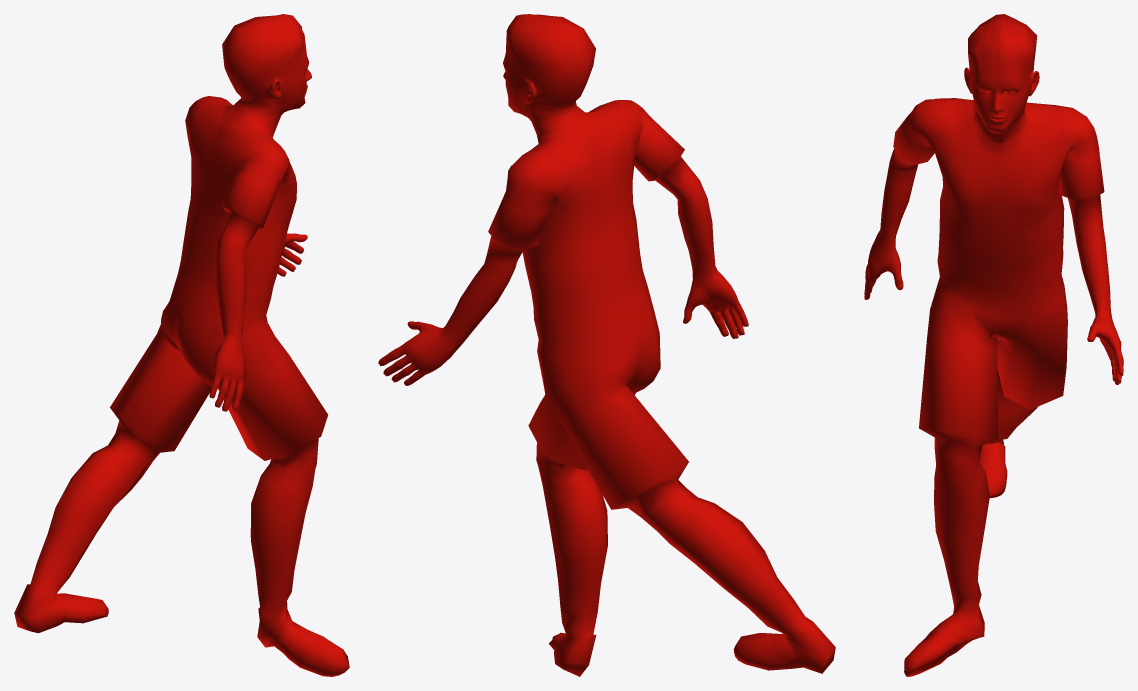
The model's file is player_000038.obj.
3 renders of one model, left to right at view 1: azimuth 30°, elevation 25°; view 2: azimuth 150°, elevation 25°; view 3: azimuth 270°, elevation 25°, orthographic. The views are drawn at different scales.
Visible parts, largest first — view 1: soccerplayer.002_mesh.003; view 2: soccerplayer.002_mesh.003; view 3: soccerplayer.002_mesh.003.
Part boxes in pixels (x1,y1,x2,y2): soccerplayer.002_mesh.003: [14, 14, 349, 676]; soccerplayer.002_mesh.003: [378, 14, 835, 676]; soccerplayer.002_mesh.003: [864, 14, 1123, 676].
Bounding box in the file's own units: 1.71 × 2.94 × 1.08.
